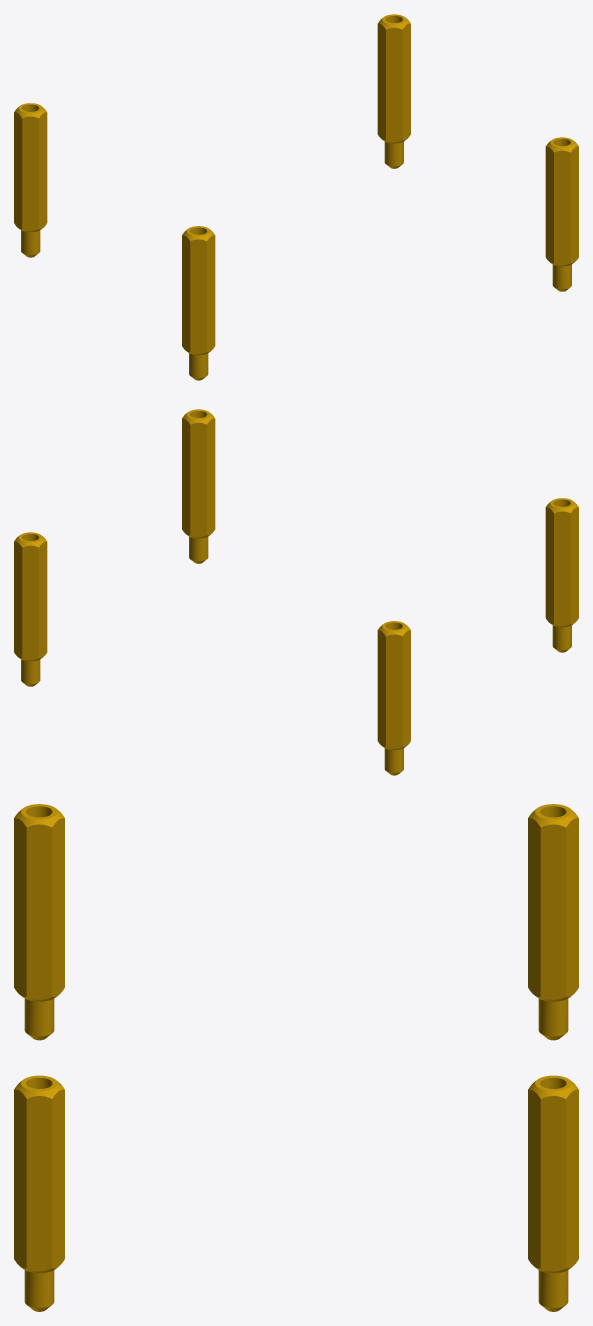
The model's file is mBot_V2_04 金属钉tt.dae.
3 renders of one model, top to bottom at view 1: azimuth 30°, elevation 25°; view 2: azimuth 150°, elevation 25°; view 3: azimuth 270°, elevation 25°, orthographic. The views are drawn at different scales.
Visible parts, largest first — view 1: zhu__zi__1; view 2: zhu__zi__1; view 3: zhu__zi__1.
Part boxes in pixels (x1,y1,x2,y2): zhu__zi__1: (14, 14, 578, 380); zhu__zi__1: (14, 409, 578, 775); zhu__zi__1: (14, 804, 578, 1311).
Bounding box in the file's own units: 85.5 × 31 × 70.35.
